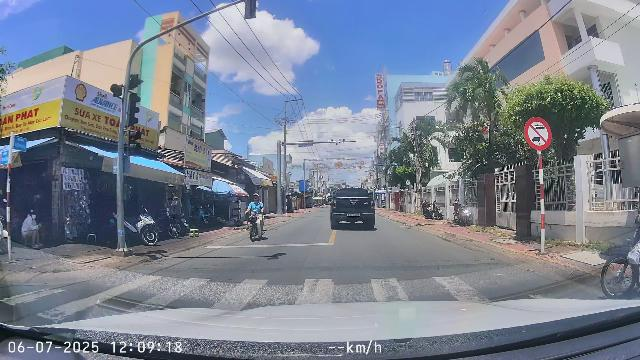107-cam-oto-khach-va-oto-tai: (524, 117, 552, 151)
